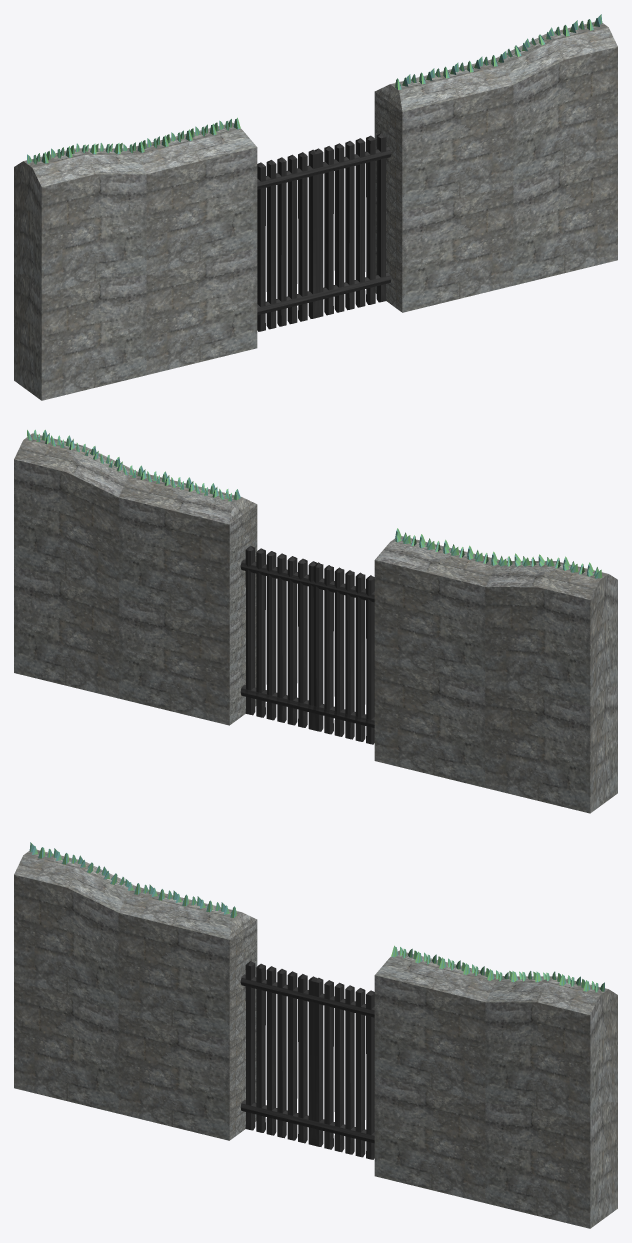
Rendered from PORTAesgoto.gltf.
The picture shows the model from 3 angles, top to bottom: view 1: azimuth 30°, elevation 25°; view 2: azimuth 150°, elevation 25°; view 3: azimuth 330°, elevation 25°; orthographic projection.
Visible parts, largest first — view 1: cuboid (×4); view 2: cuboid (×4); view 3: cuboid (×4).
Boxes of the visible parts, <box> form: cuboid (×4): <box>14,14,617,400</box>; cuboid (×4): <box>14,429,617,813</box>; cuboid (×4): <box>14,842,617,1228</box>.
Size of the model in its own units: 3 by 1.17 by 0.25.
3 materials, 3 textured.
